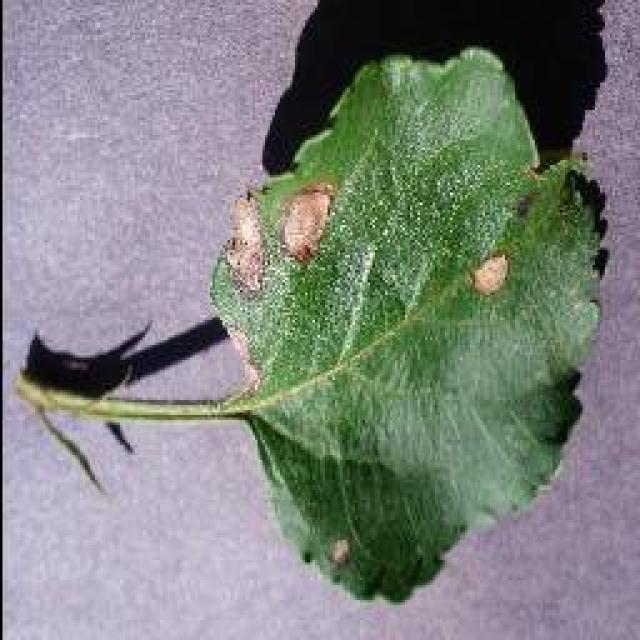Black_rot: (15, 43, 610, 605)
